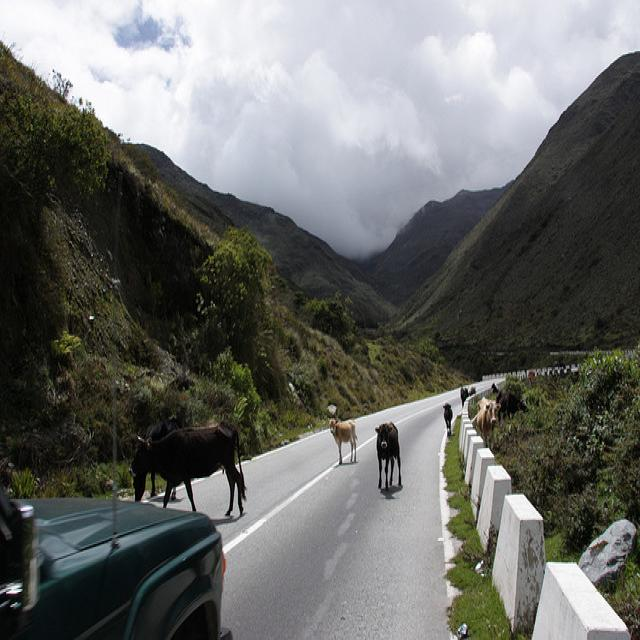Vehicle: (1, 472, 234, 631)
